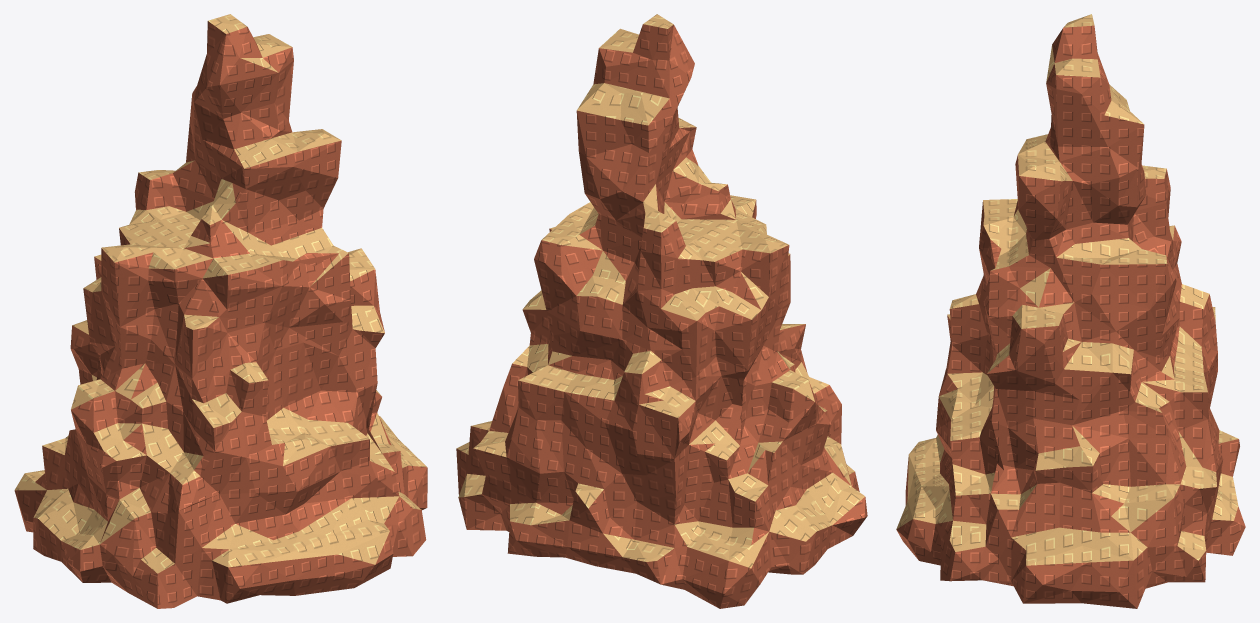
File: DesertStackBig.glb
3 views of the same model, side by side, from view 1: azimuth 30°, elevation 25°; view 2: azimuth 150°, elevation 25°; view 3: azimuth 270°, elevation 25° (orthographic).
Parts seen in each view (by area): view 1: DesertStackBig_Rock, DesertStackBig_Top; view 2: DesertStackBig_Rock, DesertStackBig_Top; view 3: DesertStackBig_Rock, DesertStackBig_Top.
Boxes of the visible parts, x1,y1,x2,y2 form: DesertStackBig_Rock: (14,21,427,608); DesertStackBig_Top: (15,14,426,573); DesertStackBig_Rock: (456,24,867,608); DesertStackBig_Top: (456,14,864,568); DesertStackBig_Rock: (896,25,1245,608); DesertStackBig_Top: (896,14,1238,565).
Size of the model in its own units: 22.76 by 30.55 by 18.83.
Materials: 2 (2 with a texture image).
